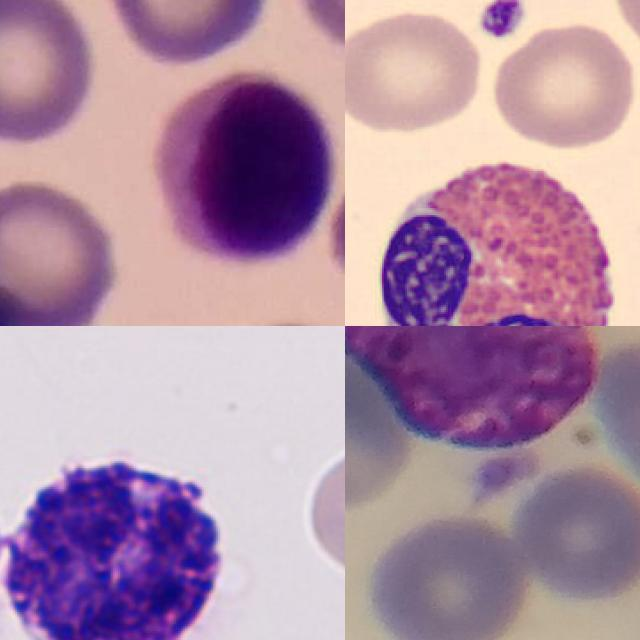Basophil: (0, 437, 246, 640), (345, 326, 599, 446)
Eosinophil: (362, 141, 630, 326)
Lymphocyte: (147, 73, 334, 263)
Platelets: (474, 0, 527, 42)
RBC: (485, 17, 640, 151), (345, 5, 487, 137), (298, 430, 345, 581), (473, 0, 535, 40)
